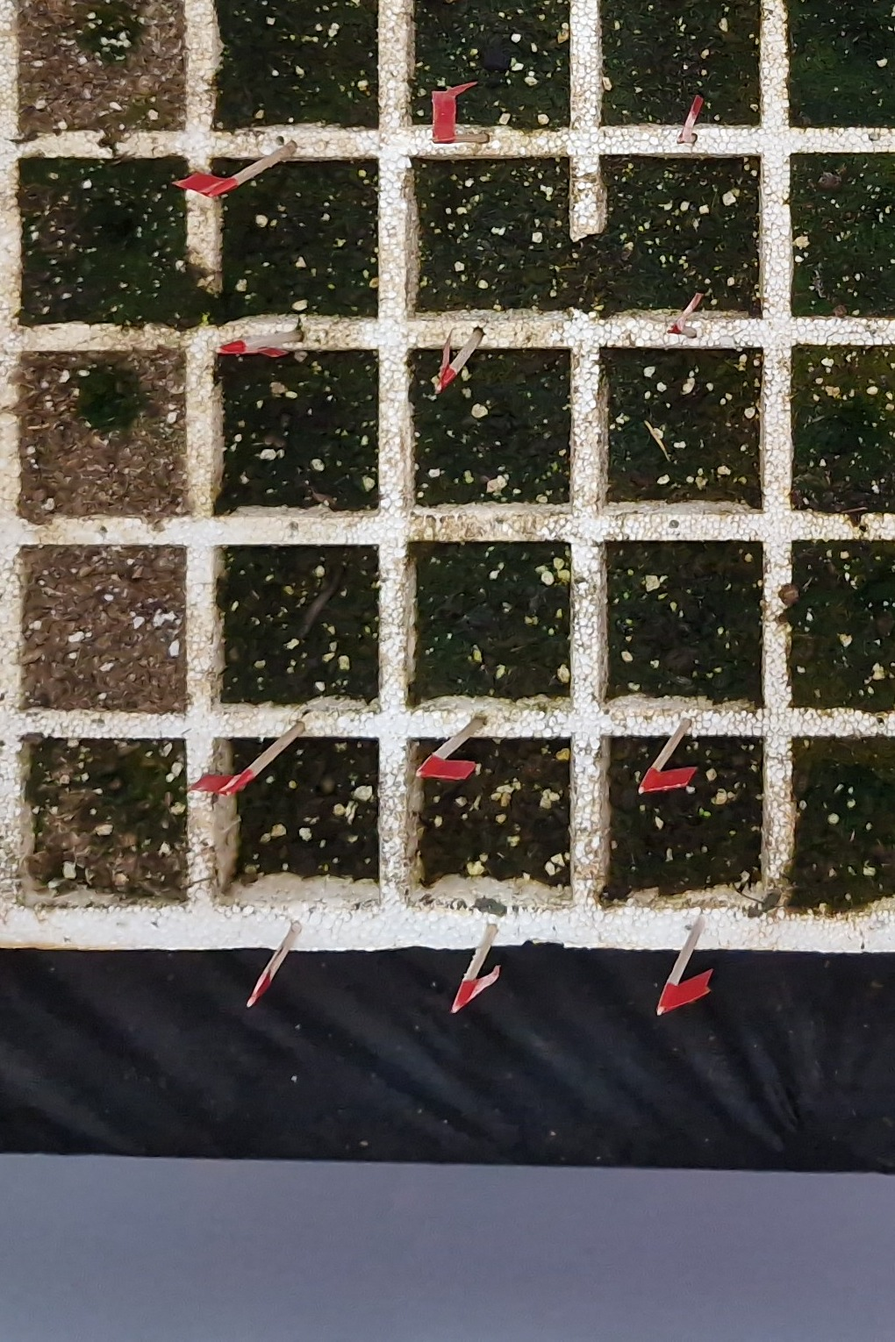Folha: (699, 808, 704, 815), (704, 812, 712, 816)
Germinacao: (699, 807, 711, 816)
